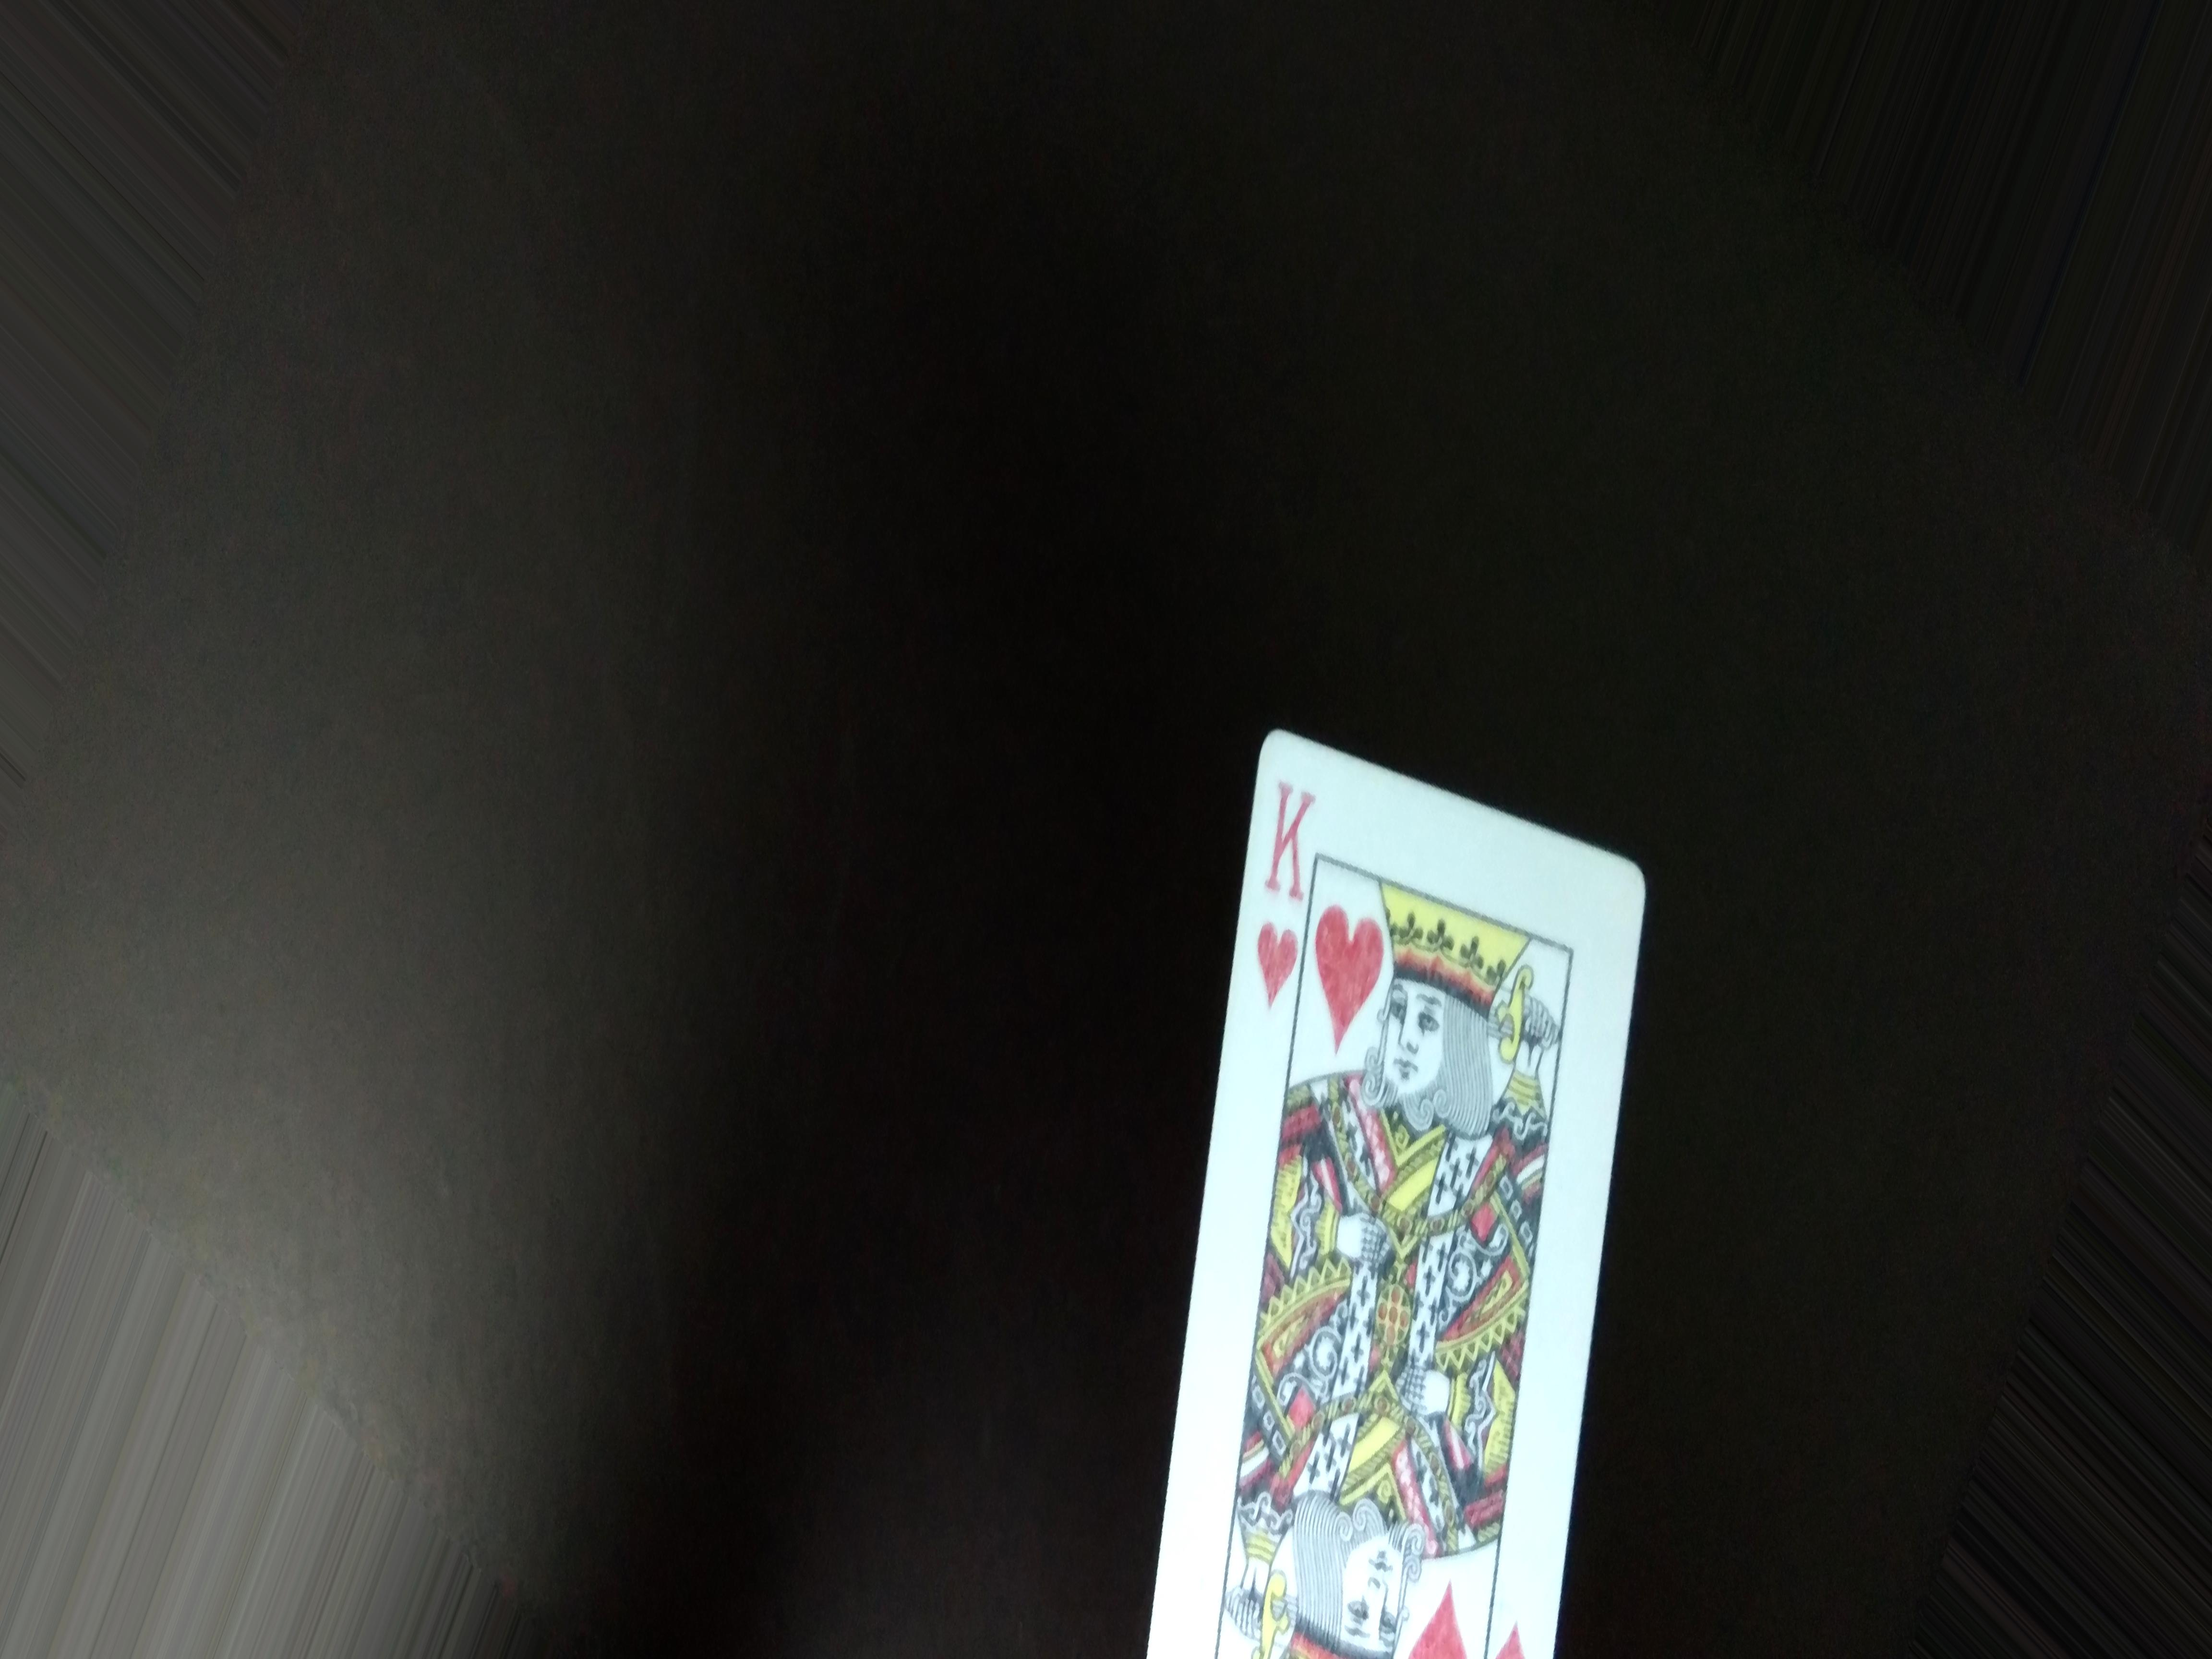KH: (1242, 765, 1320, 1012)
